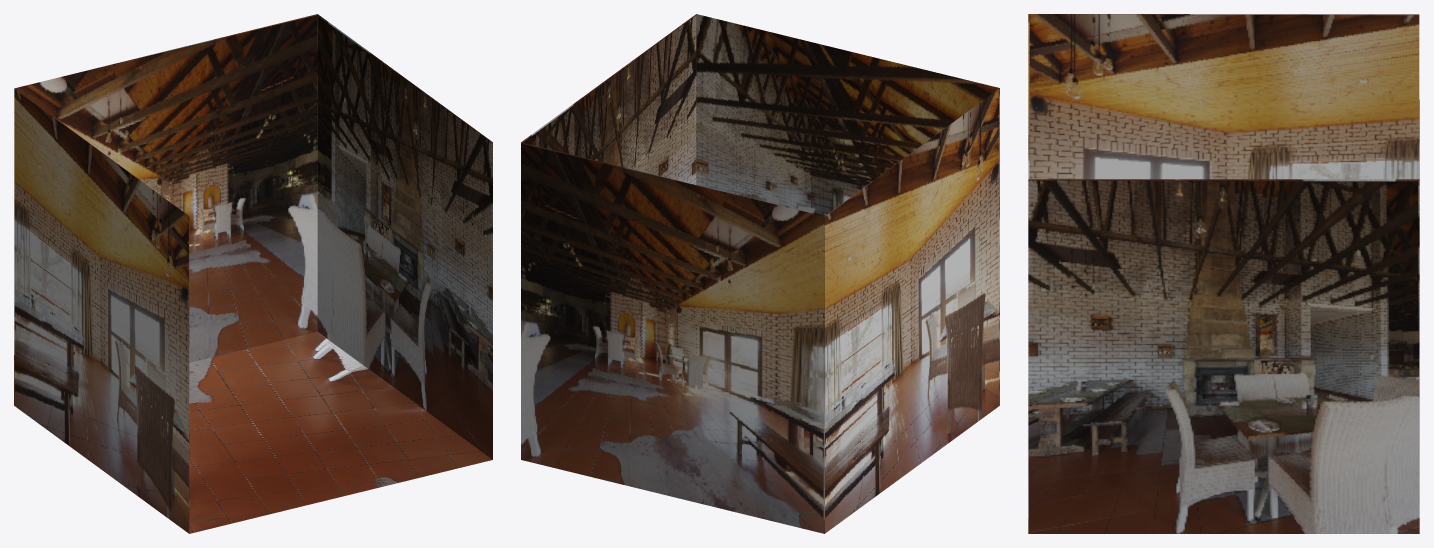
File: Inside.glb
3 views of the same model, side by side, from view 1: azimuth 30°, elevation 25°; view 2: azimuth 150°, elevation 25°; view 3: azimuth 270°, elevation 25° (orthographic). The views are drawn at different scales.
Parts seen in each view (by area): view 1: Cube; view 2: Cube; view 3: Cube.
Boxes of the visible parts, bbox=[...] form: Cube: bbox=[14, 14, 492, 533]; Cube: bbox=[521, 14, 999, 533]; Cube: bbox=[1028, 14, 1419, 533].
Size of the model in its own units: 20 by 20 by 20.
Materials: 7 (6 with a texture image).
